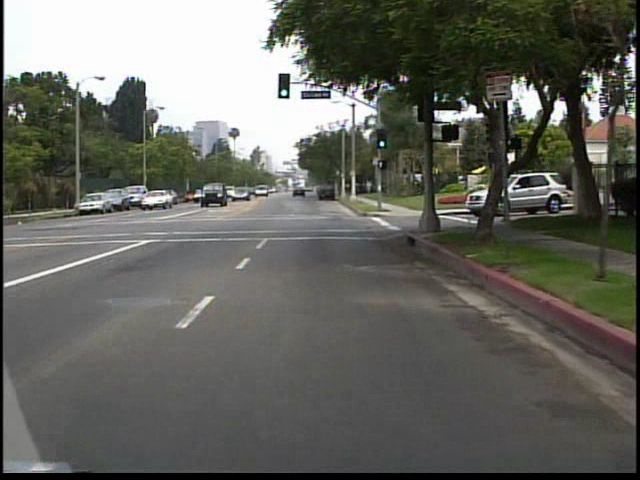person: (355, 177, 364, 200), (365, 176, 374, 196)
